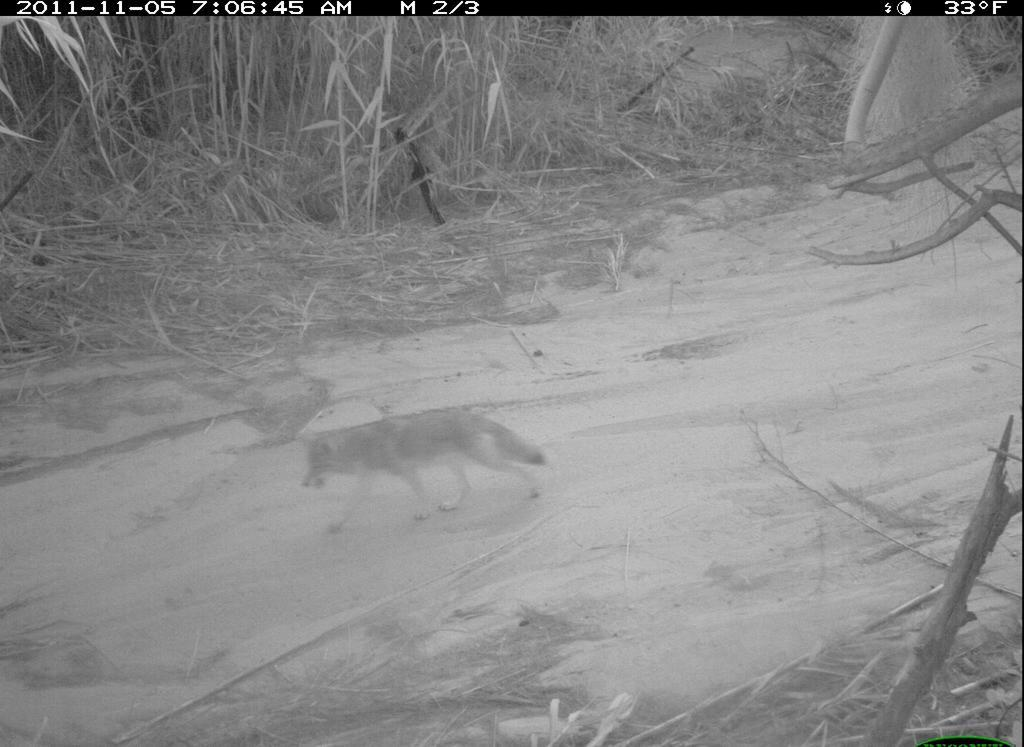coyote: (287, 398, 557, 554)
